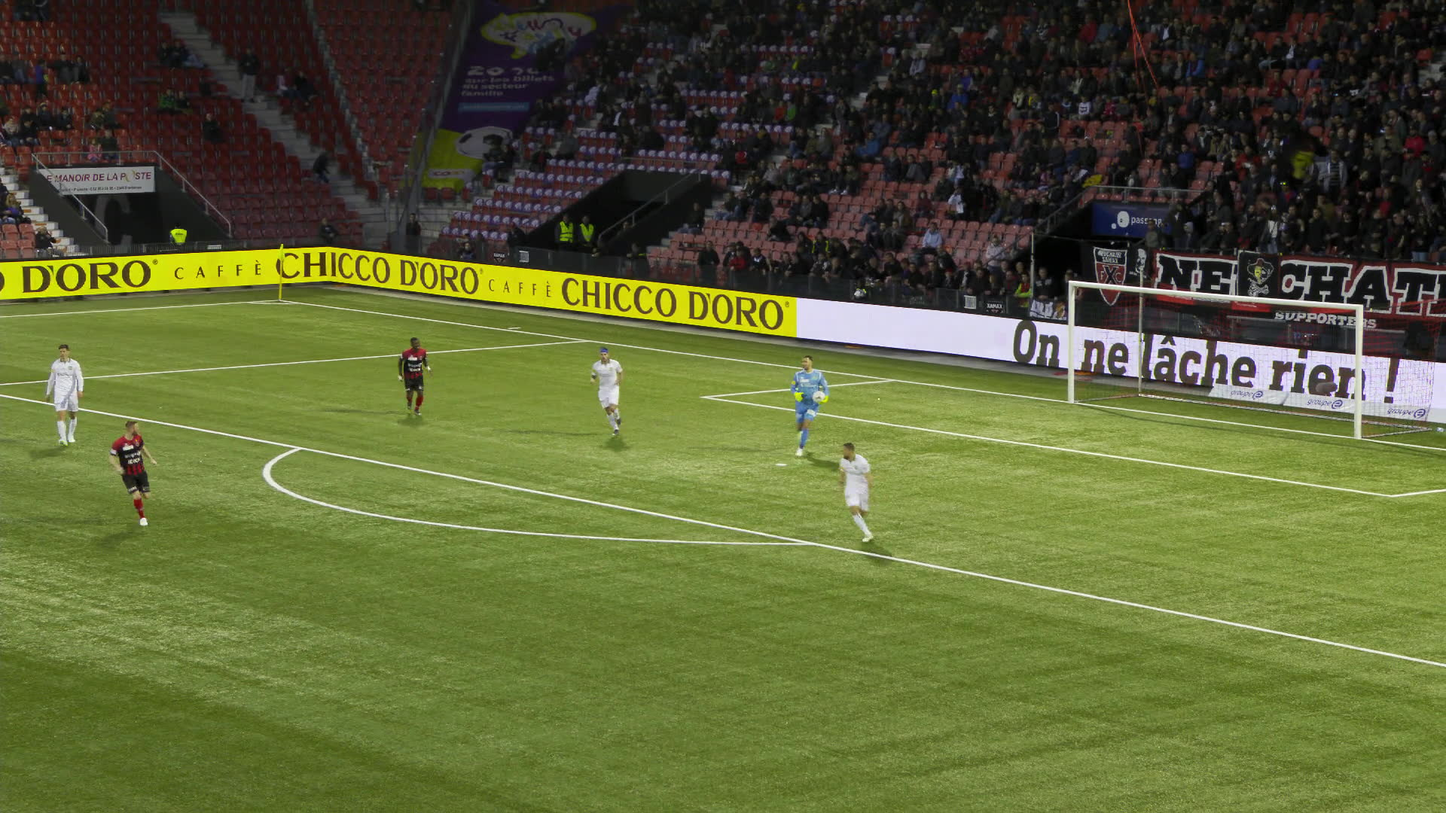ball: (812, 388, 823, 399)
player: (107, 415, 152, 522), (47, 343, 83, 445), (792, 352, 829, 449), (834, 440, 868, 538), (588, 348, 624, 437), (398, 336, 429, 416)
